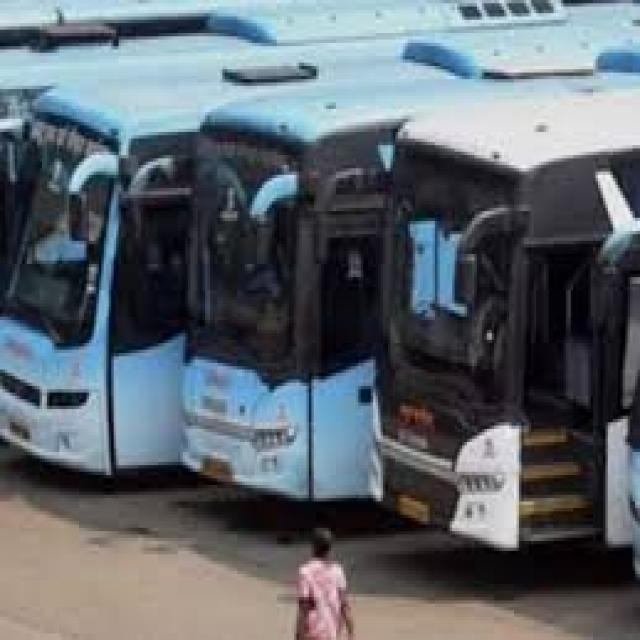BUS: (5, 16, 170, 528), (403, 50, 553, 564), (198, 96, 360, 475)
